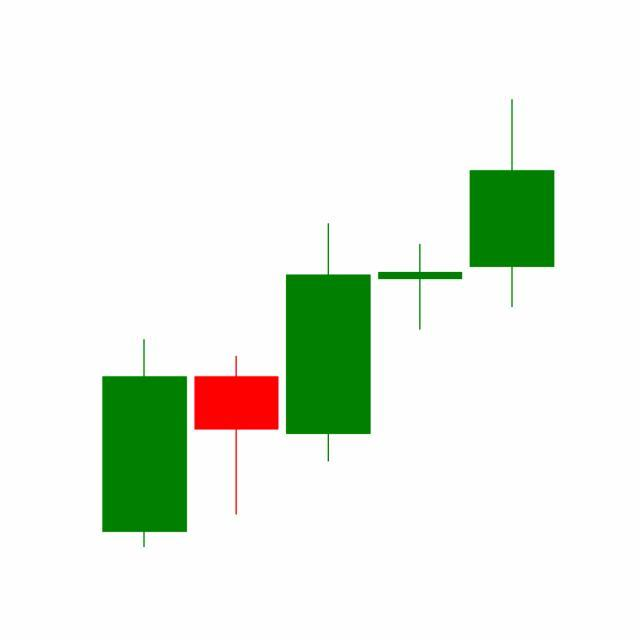Three Outside Up-Down: (190, 222, 467, 520)
